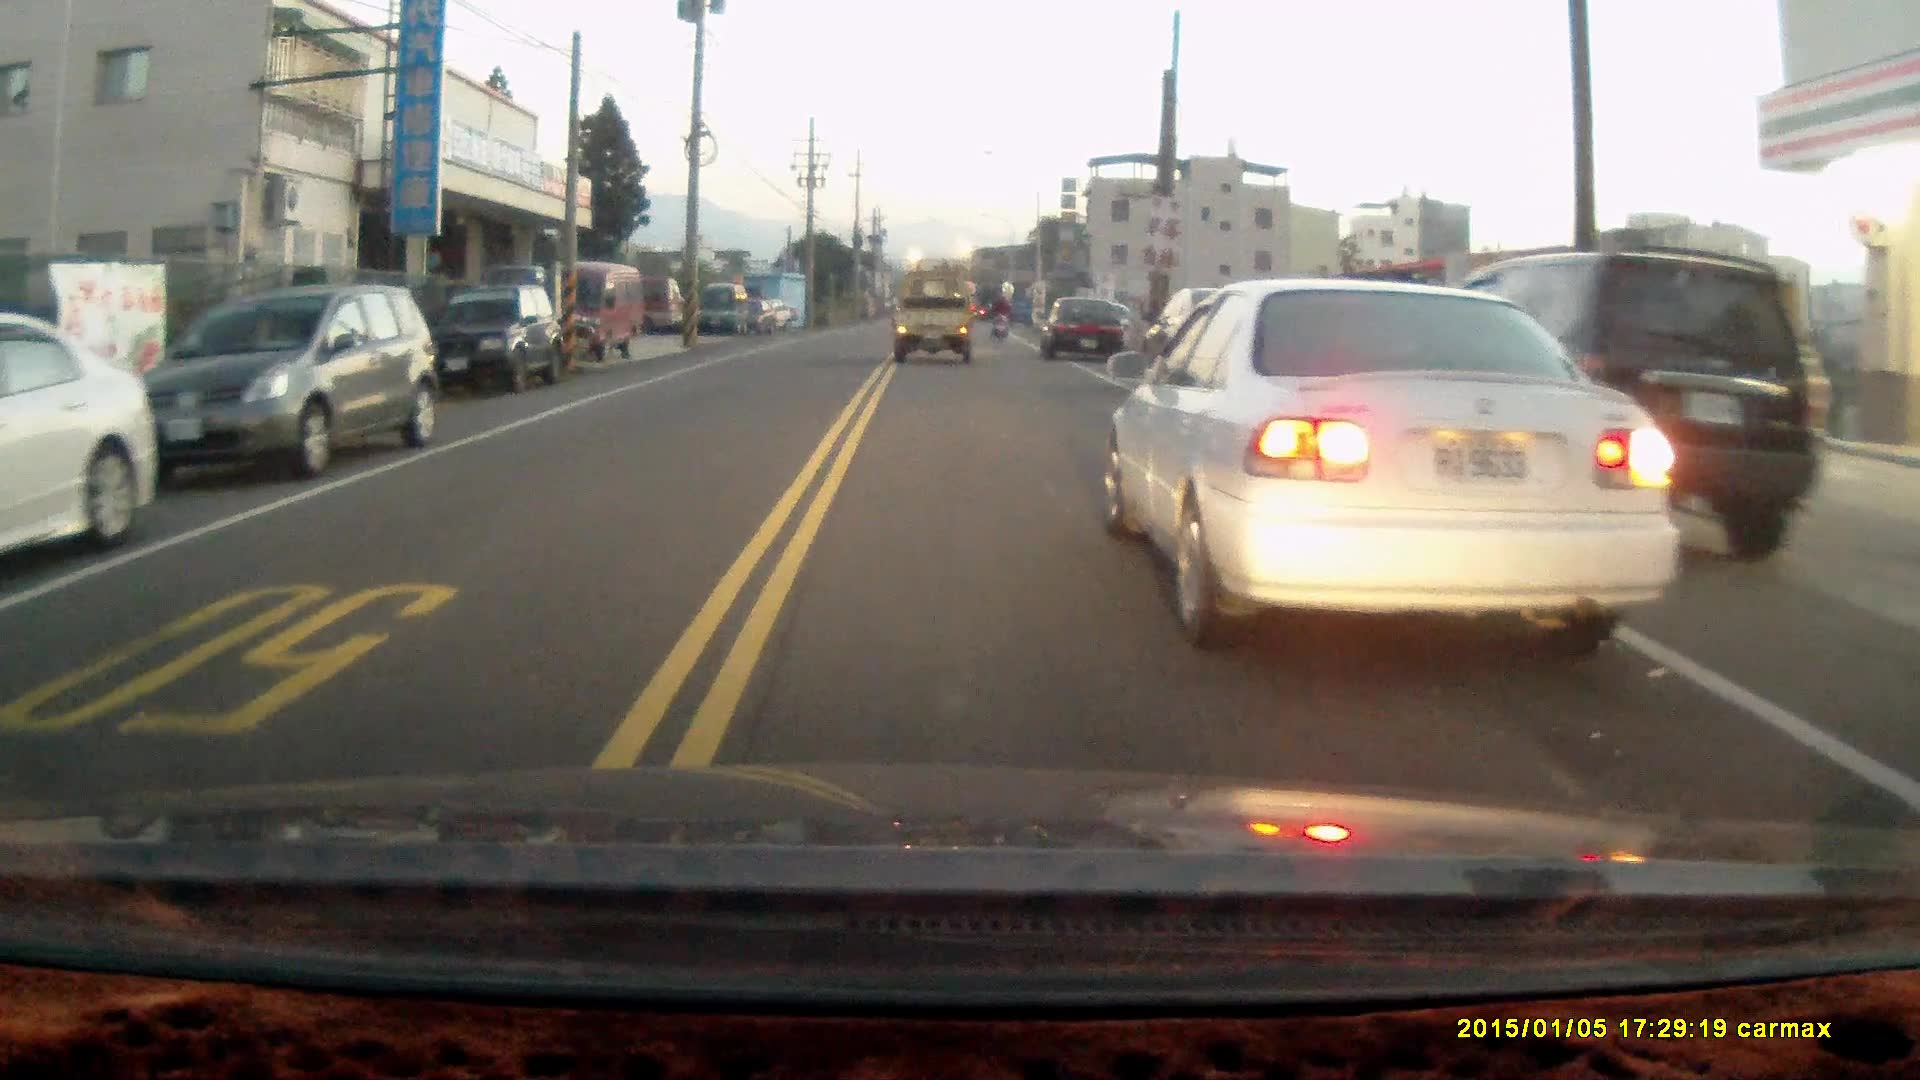rider: (986, 291, 1013, 339)
vehicle: (1110, 270, 1687, 655), (1429, 247, 1820, 572), (141, 278, 439, 474), (1, 307, 157, 566), (446, 277, 561, 394), (541, 260, 652, 357), (896, 268, 975, 363), (1041, 295, 1135, 362), (698, 279, 756, 332)
